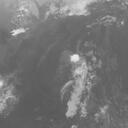cyclone: (56, 47, 101, 87)
